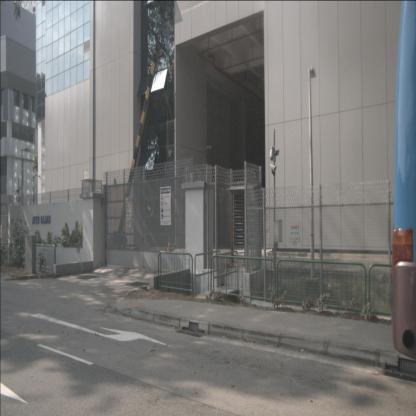movable_object-trafficcone: (166, 237, 172, 255)
